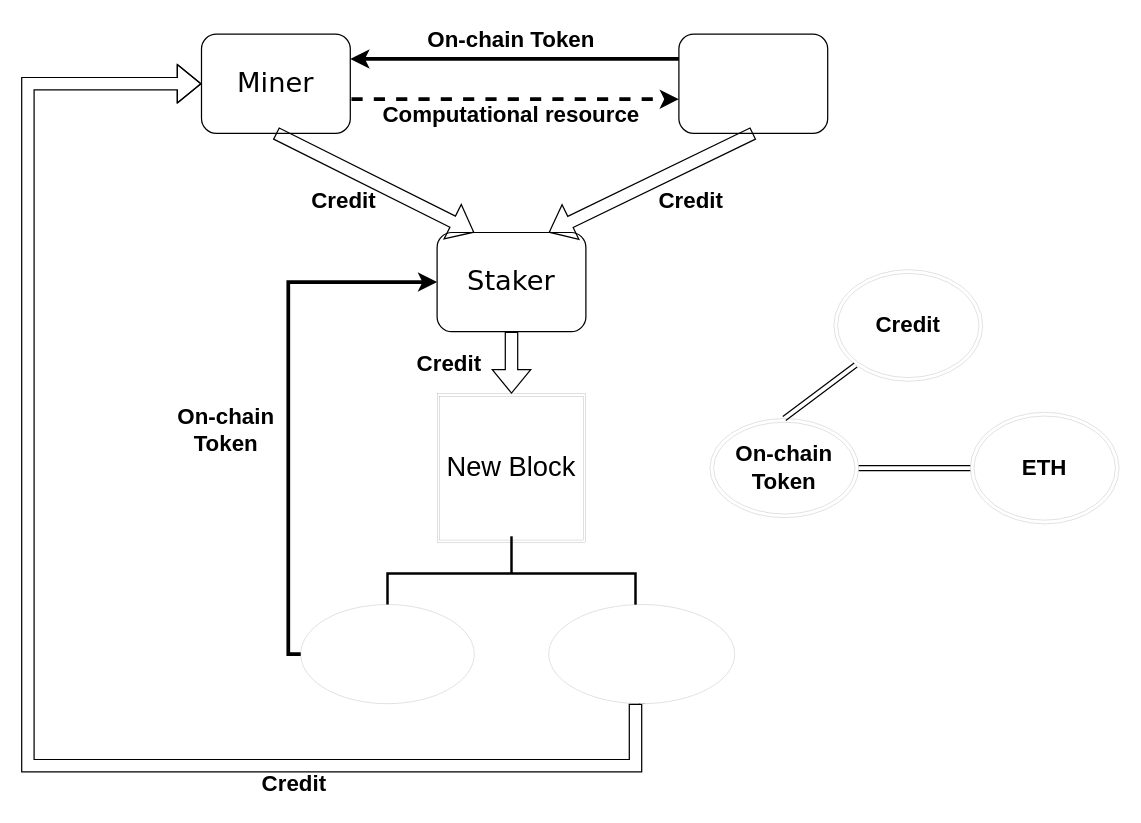
Image size: 1141x823. Some labels were removed from this diagram. The shapes that lost their labels are listed below. From the top down, each one's centre as x and y in pixels, then its label:
At [753,83]: "Client".
At [387,653]: "Block Reward".
At [641,653]: "Complete Tasks".
